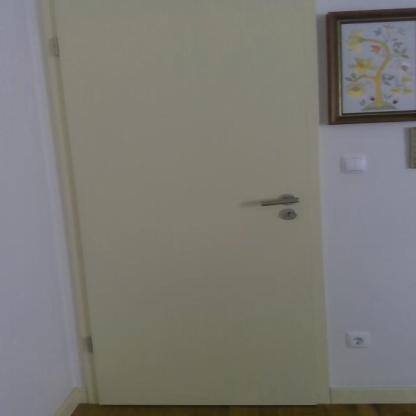door: (44, 1, 334, 407)
